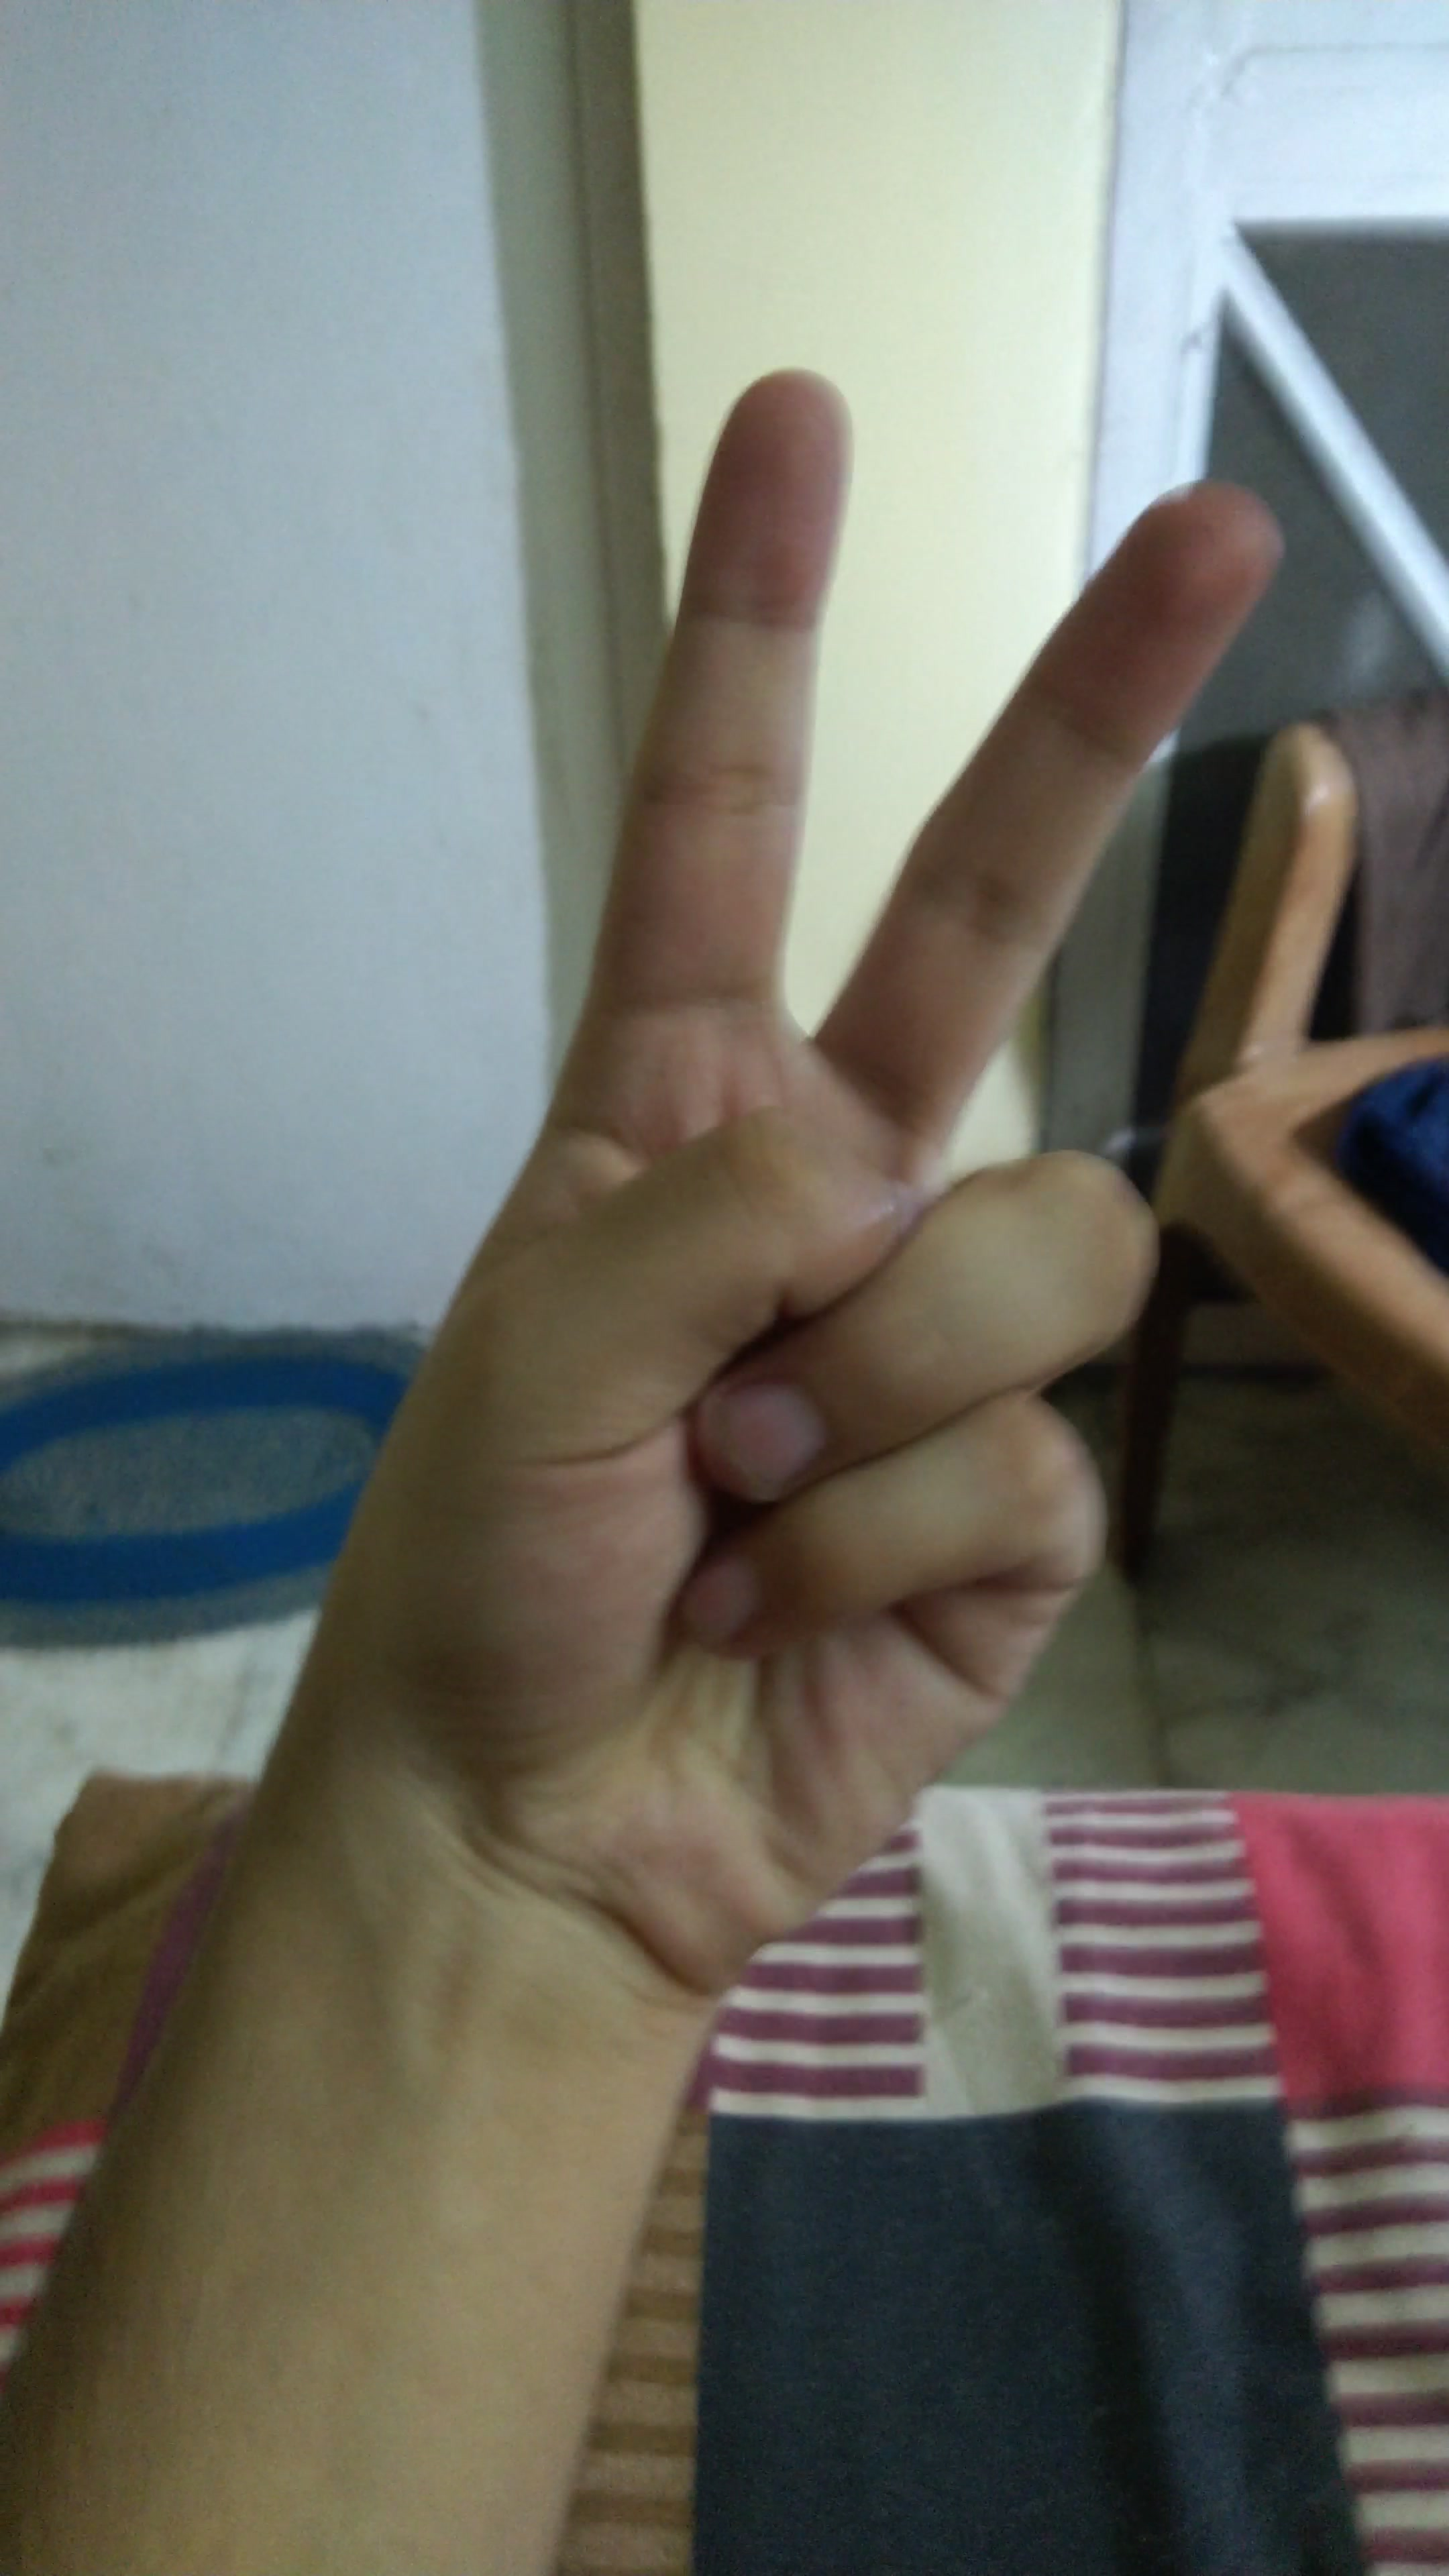hand: (184, 306, 1355, 2026)
